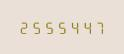five: (30, 20, 42, 34), (43, 20, 55, 34), (56, 20, 68, 34)
four: (69, 20, 81, 34), (82, 20, 94, 34)
seven: (95, 20, 107, 34)
two: (17, 20, 29, 34)
